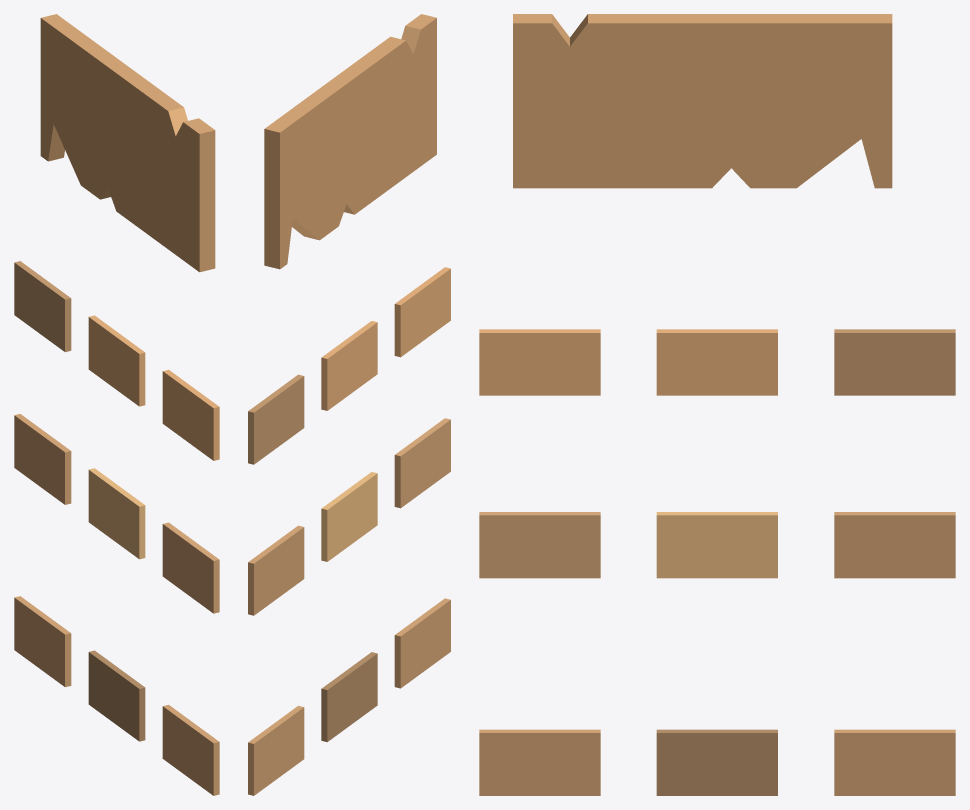
The model's file is Carteles.fbx.
3 renders of one model, left to right at view 1: azimuth 30°, elevation 25°; view 2: azimuth 150°, elevation 25°; view 3: azimuth 270°, elevation 25°, orthographic. The views are drawn at different scales.
Visible parts, largest first — view 1: Carteles; view 2: Carteles; view 3: Carteles.
Boxes of the visible parts, x1,y1,x2,y2 form: Carteles: (14, 14, 219, 795); Carteles: (248, 14, 450, 795); Carteles: (479, 14, 955, 795).
Size of the model in its own units: 27.68 by 1088 by 603.
